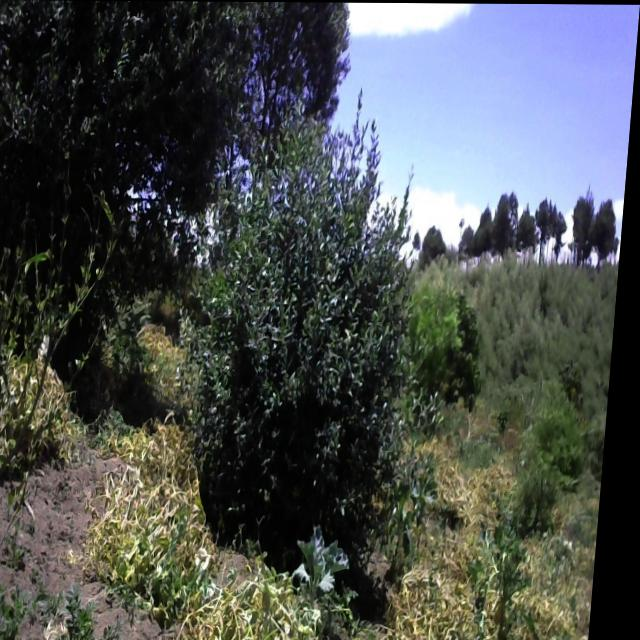Podocarpus falcatus: (513, 372, 596, 529), (407, 281, 469, 410)
Salix alba: (178, 119, 427, 554)
cedrus: (593, 186, 624, 273), (570, 191, 600, 266), (498, 189, 522, 256), (535, 194, 558, 261), (518, 194, 539, 265), (475, 202, 500, 257), (554, 190, 572, 264), (424, 220, 452, 265)
other: (0, 0, 226, 292), (208, 1, 359, 184)
